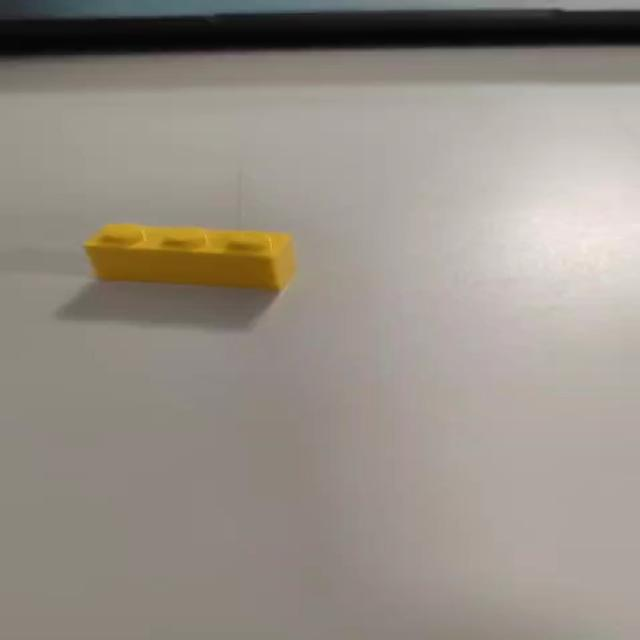C3x1x1: (74, 218, 298, 293)
